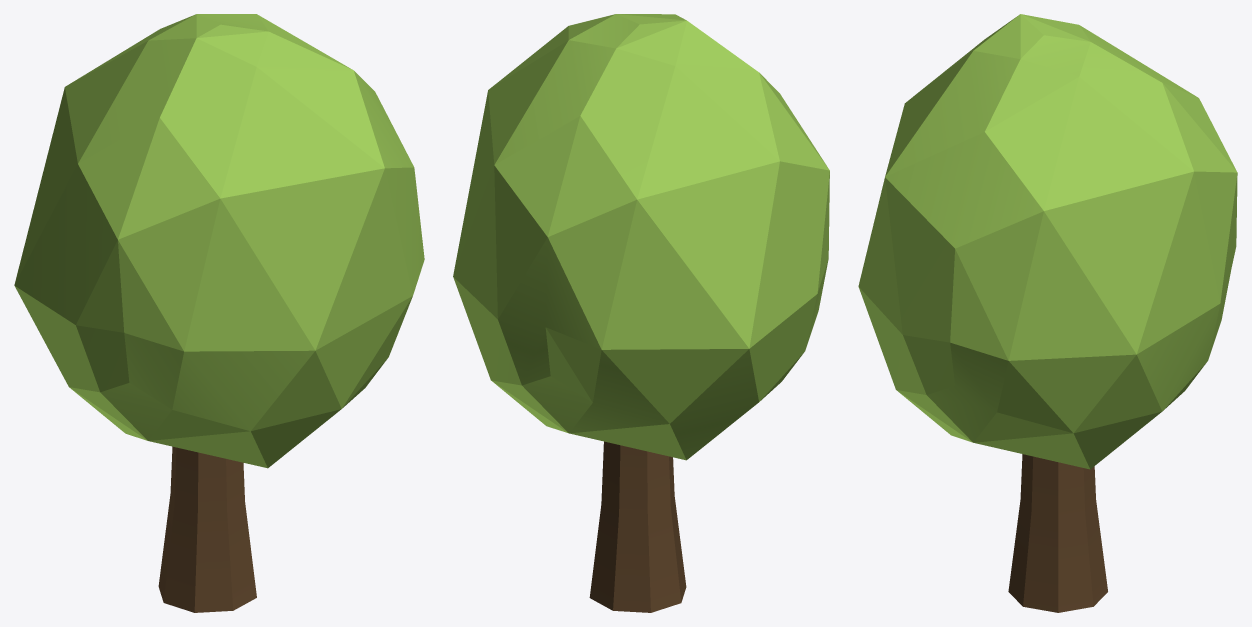
The model's file is Tree1.fbx.
The picture shows the model from 3 angles, left to right: view 1: azimuth 30°, elevation 25°; view 2: azimuth 150°, elevation 25°; view 3: azimuth 270°, elevation 25°; orthographic projection. The views are drawn at different scales.
Parts seen in each view (by area): view 1: Tree; view 2: Tree; view 3: Tree.
Part boxes in pixels (x1,y1,x2,y2): Tree: (14,14,424,612); Tree: (453,14,829,612); Tree: (858,14,1237,612).
Size of the model in its own units: 335 by 547 by 333.
